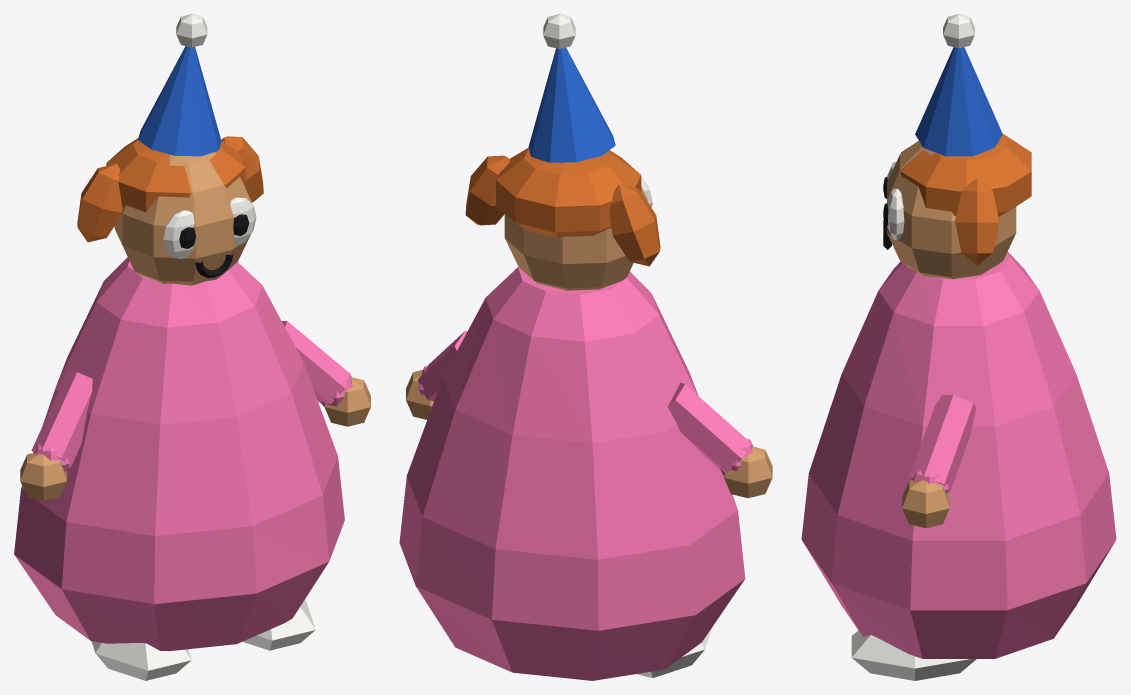
File: npc_nena_fiesta.glb
3 views of the same model, side by side, from view 1: azimuth 30°, elevation 25°; view 2: azimuth 150°, elevation 25°; view 3: azimuth 270°, elevation 25° (orthographic). The views are drawn at different scales.
Visible parts, largest first — view 1: body_kid_dress_pink, head_skin_arena, head_hair_carrot, arms_kid_dress_pink, hat_hat_blue, legs_kid_shoes, arms_skin_arena, face_white, face_black, hat_white; view 2: body_kid_dress_pink, head_hair_carrot, hat_hat_blue, head_skin_arena, arms_kid_dress_pink, arms_skin_arena, hat_white, legs_kid_shoes; view 3: body_kid_dress_pink, head_hair_carrot, head_skin_arena, hat_hat_blue, arms_kid_dress_pink, legs_kid_shoes, arms_skin_arena, hat_white, face_white.
Boxes of the visible parts, x1,y1,x2,y2 form: body_kid_dress_pink: (14, 257, 344, 651); head_skin_arena: (114, 152, 251, 285); head_hair_carrot: (77, 136, 263, 242); arms_kid_dress_pink: (31, 321, 352, 472); hat_hat_blue: (138, 46, 221, 156); legs_kid_shoes: (91, 600, 315, 680); arms_skin_arena: (20, 377, 370, 500); face_white: (163, 197, 256, 258); face_black: (179, 214, 249, 277); hat_white: (176, 14, 207, 47); body_kid_dress_pink: (399, 267, 745, 680); head_hair_carrot: (465, 148, 660, 266); hat_hat_blue: (528, 47, 615, 162); head_skin_arena: (504, 151, 647, 290); arms_kid_dress_pink: (417, 330, 753, 475); arms_skin_arena: (406, 370, 772, 498); hat_white: (543, 14, 575, 48); legs_kid_shoes: (636, 627, 712, 677); body_kid_dress_pink: (801, 252, 1116, 658); head_hair_carrot: (901, 134, 1031, 265); head_skin_arena: (887, 141, 1016, 279); hat_hat_blue: (915, 47, 1002, 156); arms_kid_dress_pink: (909, 395, 976, 493); legs_kid_shoes: (851, 630, 976, 680); arms_skin_arena: (902, 480, 949, 528); hat_white: (943, 14, 974, 48); face_white: (887, 161, 904, 240).
Bounding box in the file's own units: 1.13 × 1.91 × 0.86.
